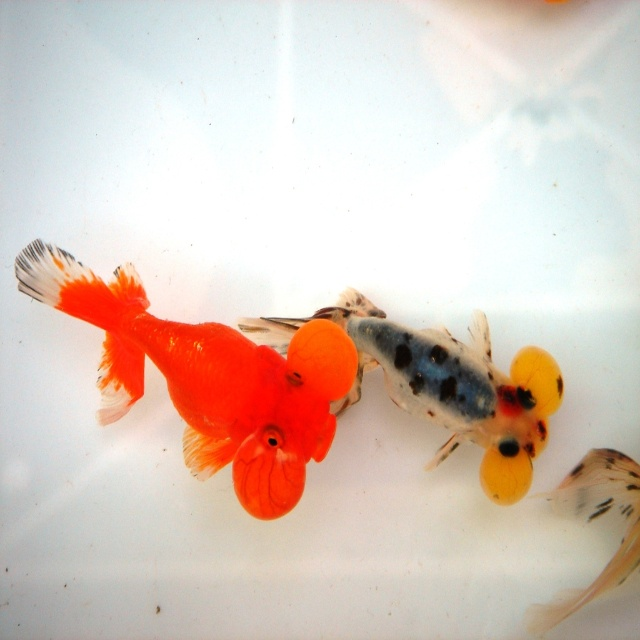Goldfish: (20, 237, 354, 518)
